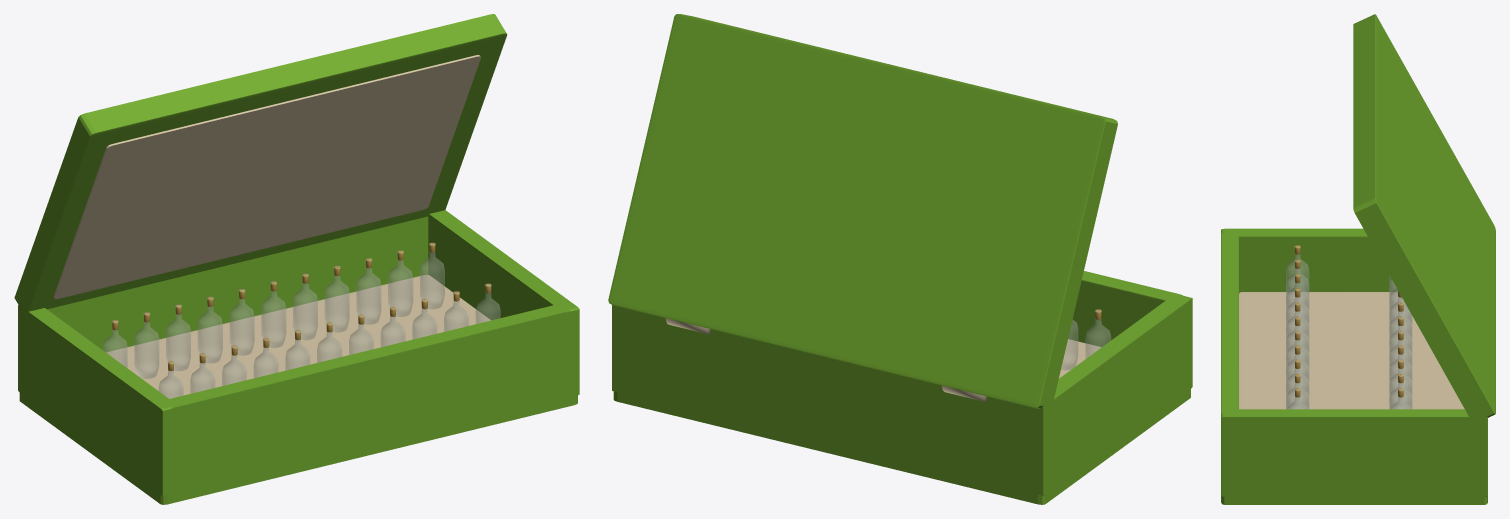
3 renders of one model, left to right at view 1: azimuth 30°, elevation 25°; view 2: azimuth 150°, elevation 25°; view 3: azimuth 270°, elevation 25°, orthographic. The views are drawn at different scales.
Parts seen in each view (by area): view 1: TI059 / lid lining, TI059 / case end, TI059 / separate lid panel, TI059 / case end.001, TI059 / case liner, TI059 / case side, TI059 / case bottom, TI059 / case side.001, TI059 / bottle body.012, TI059 / bottle body.014, TI059 / bottle body.015, TI059 / bottle body.018 (+7 smaller); view 2: TI059 / separate lid panel, TI059 / case end.001, TI059 / case side, TI059 / case bottom, TI059 / case end, TI059 / case side.001, TI059 / case liner, TI059 / bottle body; view 3: TI059 / separate lid panel, TI059 / case side.001, TI059 / case liner, TI059 / case side, TI059 / case bottom, TI059 / case end, TI059 / bottle body, TI059 / bottle body.004, TI059 / bottle body.007, TI059 / bottle body.003, TI059 / bottle body.006, TI059 / bottle body.008 (+12 smaller).
Part boxes in pixels (bbox=[...]): TI059 / lid lining: bbox=[53, 55, 480, 299]; TI059 / case end: bbox=[166, 304, 570, 474]; TI059 / separate lid panel: bbox=[14, 14, 507, 312]; TI059 / case end.001: bbox=[47, 216, 428, 352]; TI059 / case liner: bbox=[106, 274, 490, 398]; TI059 / case side: bbox=[18, 305, 178, 496]; TI059 / case bottom: bbox=[19, 378, 577, 504]; TI059 / case side.001: bbox=[428, 210, 579, 395]; TI059 / bottle body.012: bbox=[134, 312, 159, 378]; TI059 / bottle body.014: bbox=[197, 296, 222, 363]; TI059 / bottle body.015: bbox=[229, 289, 254, 355]; TI059 / bottle body.018: bbox=[324, 265, 349, 332]; TI059 / separate lid panel: bbox=[608, 14, 1117, 408]; TI059 / case end.001: bbox=[625, 308, 1029, 492]; TI059 / case side: bbox=[1026, 294, 1192, 496]; TI059 / case bottom: bbox=[613, 371, 1190, 504]; TI059 / case end: bbox=[1068, 271, 1182, 346]; TI059 / case side.001: bbox=[612, 305, 628, 394]; TI059 / case liner: bbox=[1059, 339, 1101, 378]; TI059 / bottle body: bbox=[1085, 309, 1111, 358]; TI059 / separate lid panel: bbox=[1353, 14, 1495, 422]; TI059 / case side.001: bbox=[1221, 409, 1487, 496]; TI059 / case liner: bbox=[1239, 292, 1464, 409]; TI059 / case side: bbox=[1221, 228, 1397, 293]; TI059 / case bottom: bbox=[1221, 480, 1487, 504]; TI059 / case end: bbox=[1221, 233, 1238, 412]; TI059 / bottle body: bbox=[1286, 245, 1309, 294]; TI059 / bottle body.004: bbox=[1286, 302, 1309, 351]; TI059 / bottle body.007: bbox=[1286, 345, 1309, 394]; TI059 / bottle body.003: bbox=[1286, 288, 1309, 337]; TI059 / bottle body.006: bbox=[1286, 330, 1309, 380]; TI059 / bottle body.008: bbox=[1286, 359, 1309, 408].
Size of the model in its own units: 2.5 by 1.89 by 1.54.
